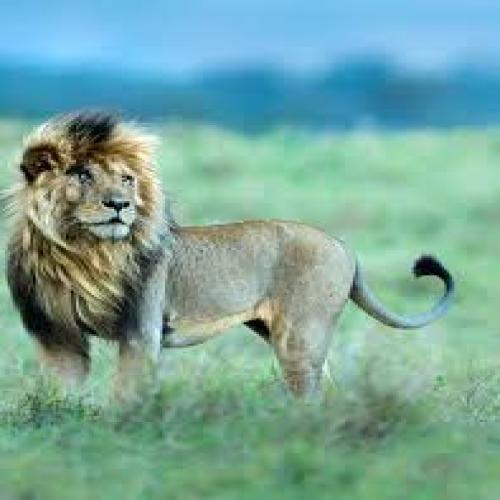lion-endangered: (0, 112, 460, 415)
